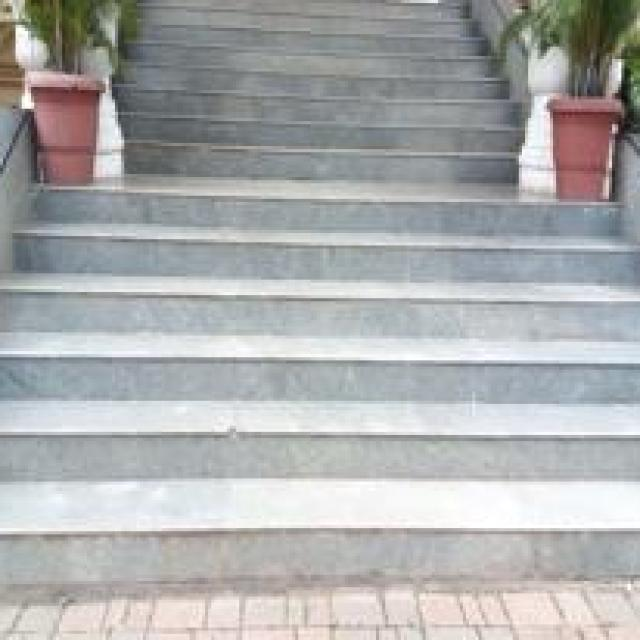upstair: (1, 274, 635, 613)
